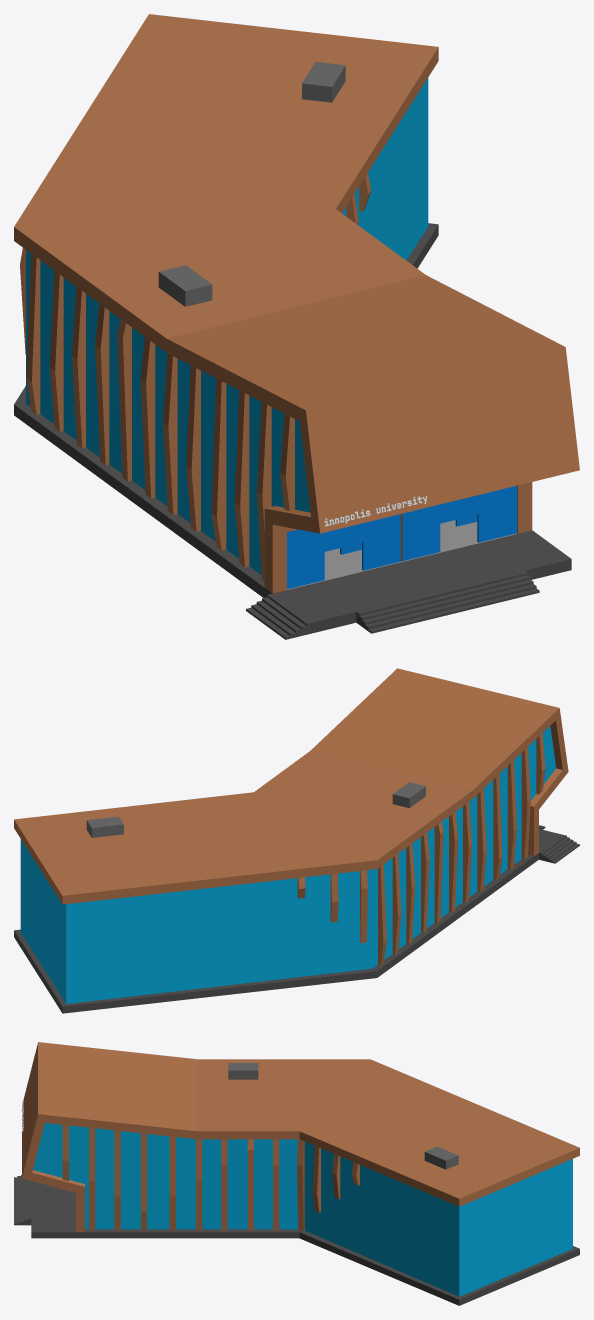
Rendered from university.fbx.
The picture shows the model from 3 angles, top to bottom: view 1: azimuth 30°, elevation 25°; view 2: azimuth 150°, elevation 25°; view 3: azimuth 270°, elevation 25°; orthographic projection. The views are drawn at different scales.
Parts seen in each view (by area): view 1: MainBuilding, StairsFront, StairsSide; view 2: MainBuilding, StairsSide; view 3: MainBuilding, StairsFront.
Boxes of the visible parts, bbox=[...] form: MainBuilding: bbox=[14, 14, 579, 633]; StairsFront: bbox=[356, 570, 539, 633]; StairsSide: bbox=[246, 593, 311, 639]; MainBuilding: bbox=[14, 668, 568, 1013]; StairsSide: bbox=[539, 835, 579, 863]; MainBuilding: bbox=[22, 1042, 579, 1305]; StairsFront: bbox=[14, 1175, 31, 1225].
Bounding box in the file's own units: 10077 × 3975 × 16401.
